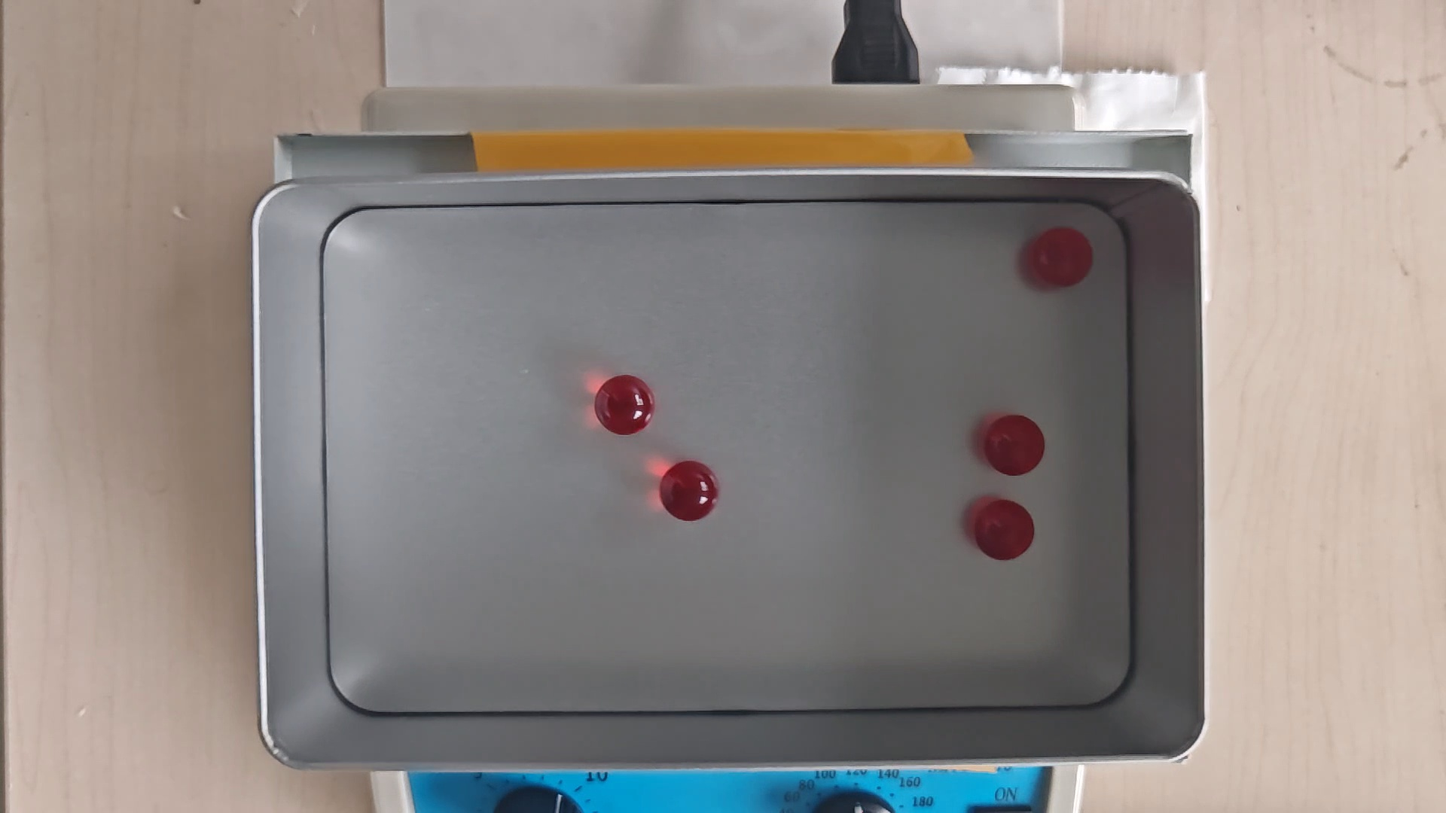ball: (593, 374, 656, 436), (983, 413, 1045, 475), (659, 460, 720, 523), (973, 500, 1035, 561), (1032, 227, 1093, 287)
container: (319, 202, 1131, 708)
